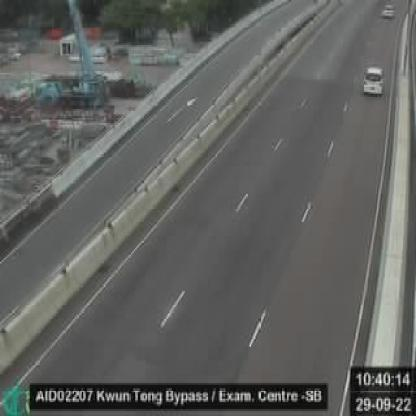Car: (360, 62, 385, 99), (377, 0, 394, 23)
